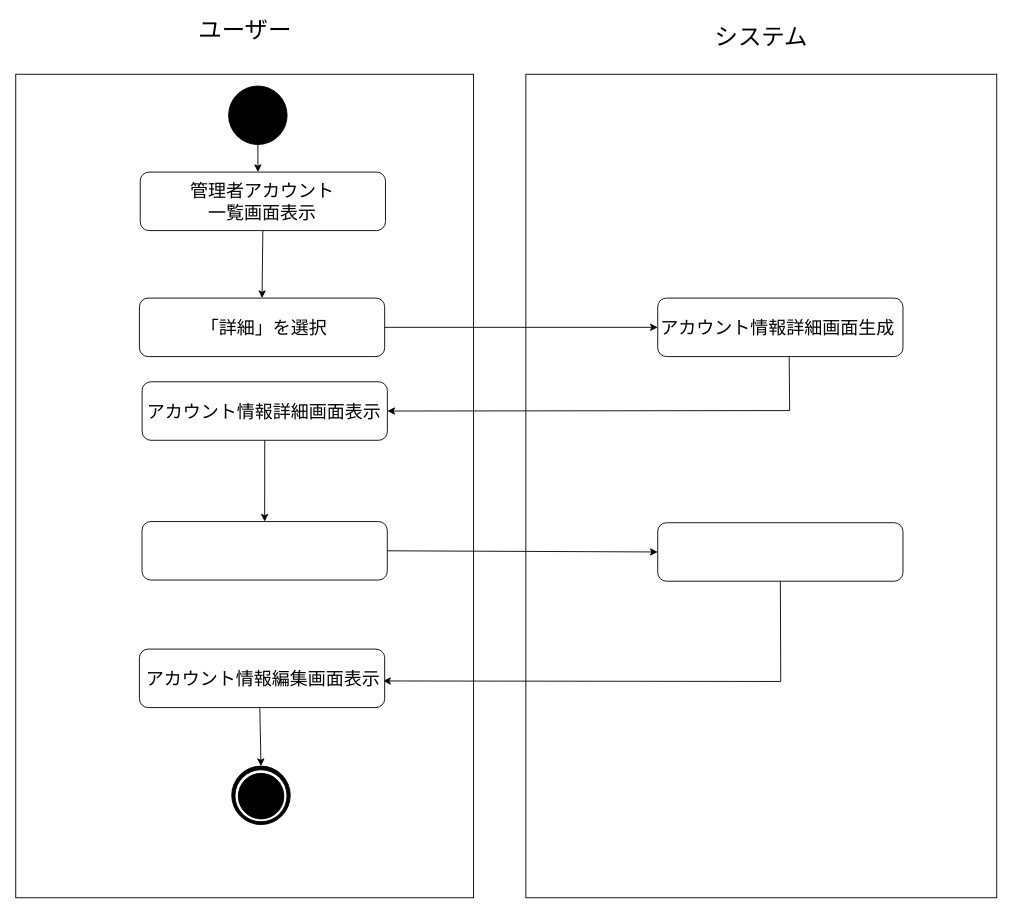
Image size: 1013x914. Some labels were removed from this diagram. The shapes that lost their labels are listed below. From the top down, each one's centre as x and y in pixels, then its label:
the point at 264,550: 「編集」を選択
the point at 780,551: アカウント情報編集画面生成
